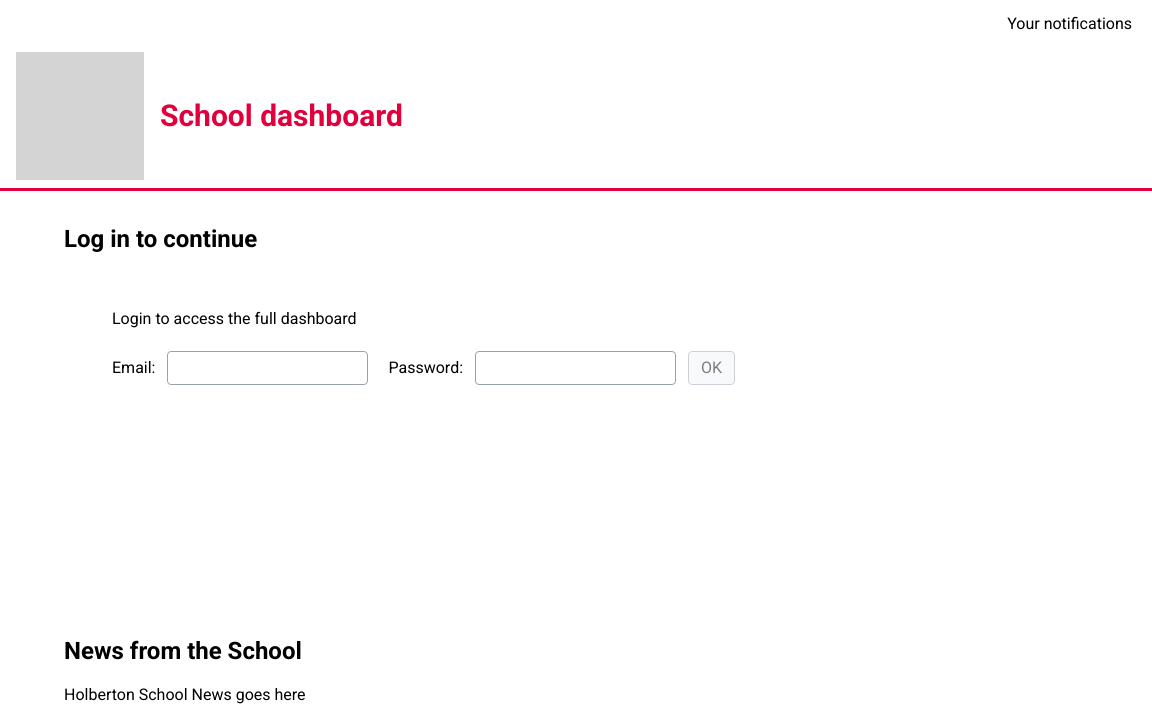
Test: App component › opens the notifications drawer
Click the button "Your notifications" at (1070, 24), box [1007,14,1132,33]
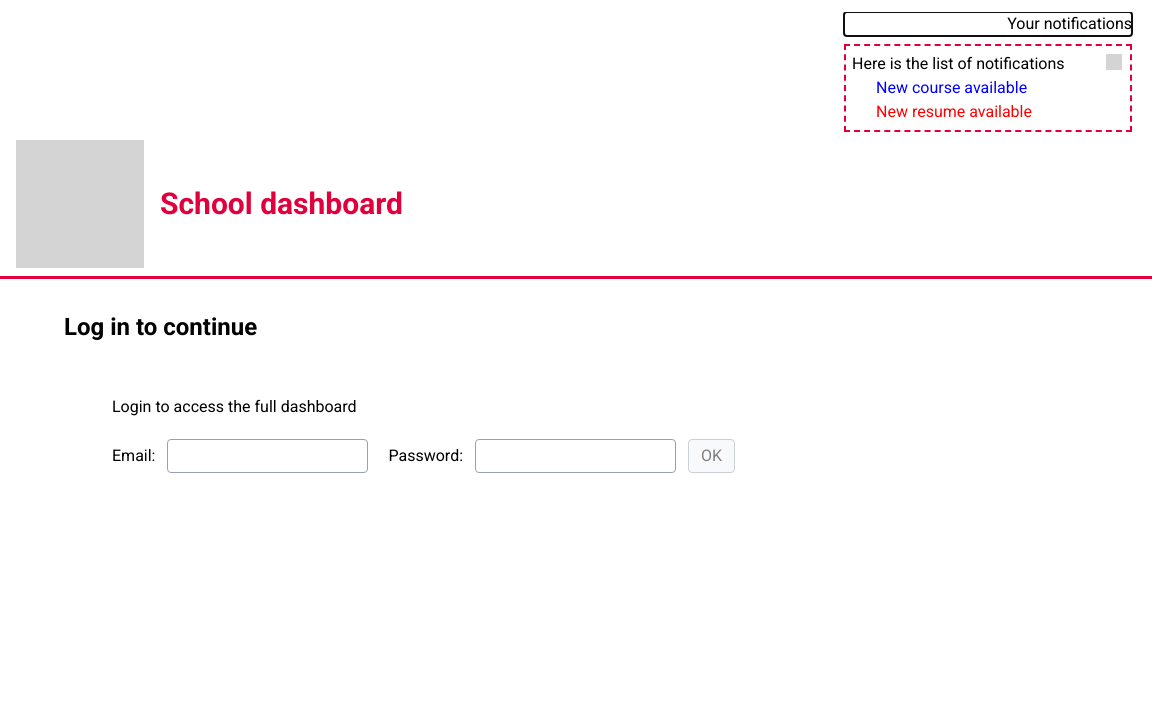
Now the text "Here is the list of notifications" is shown, box [852,54,1064,73]
